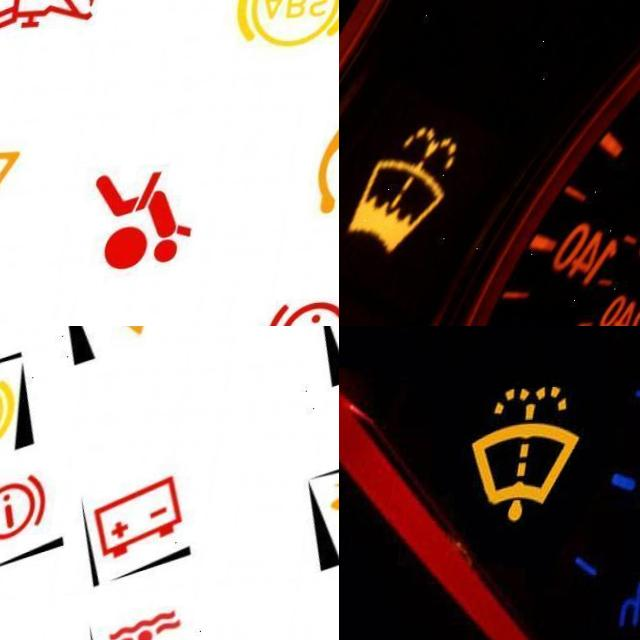Washer Fluid: (473, 387, 593, 528), (355, 130, 467, 260)
